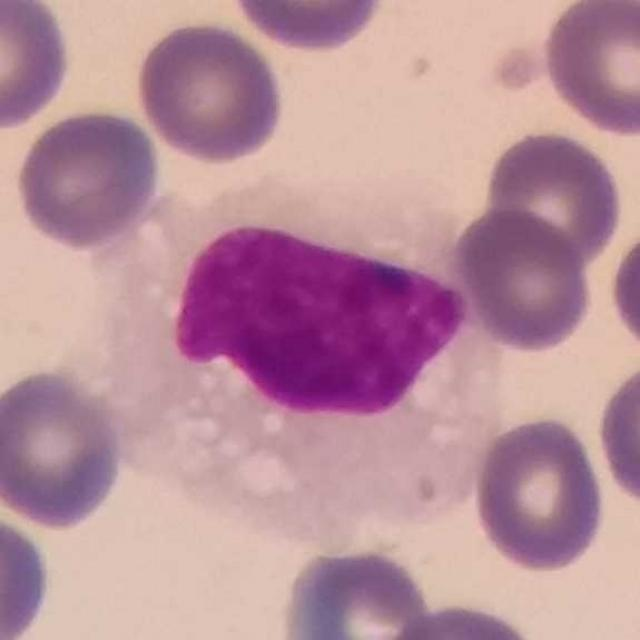mono: (68, 186, 505, 543)
